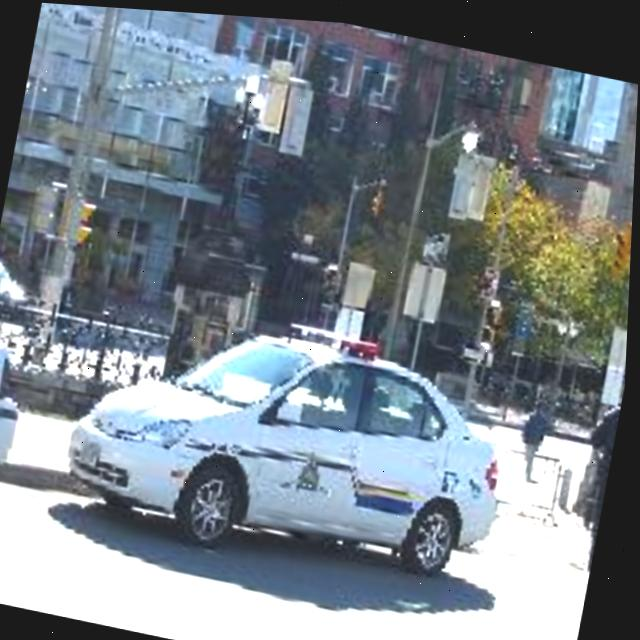emergency: (47, 280, 534, 594)
